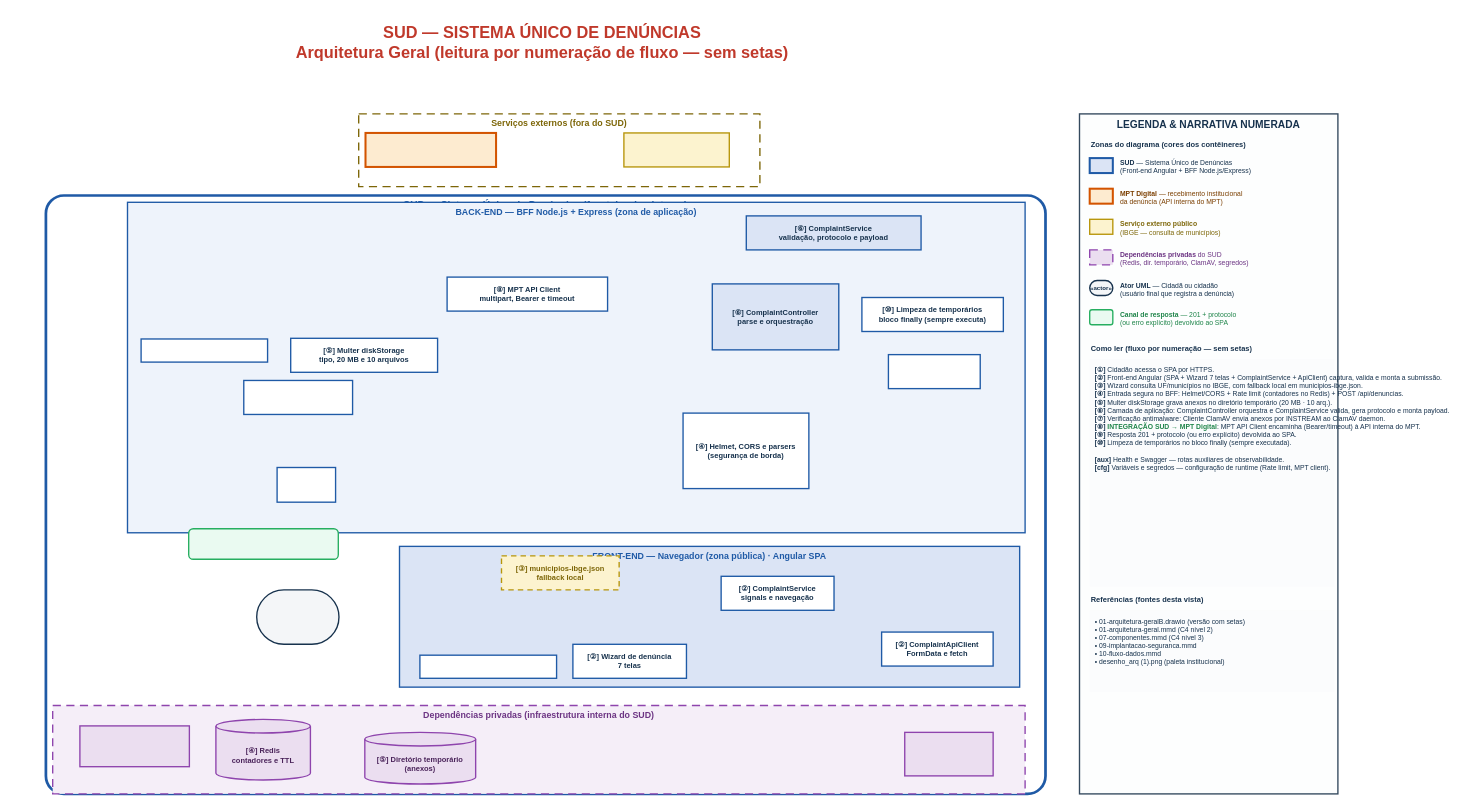
The diagram is 1461 pixels wide and 806 high, and some of its shapes have lost their labels. Here are the shapes that lost their labels. From the top down, the centre of each, then its label:
[430,150]: [⑧] API interna do MPT «MPT Digital»
[676,149]: [③] API pública do IBGE (municípios por UF)
[204,350]: [④] POST /api/denuncias
[934,371]: [⑦] Cliente ClamAV INSTREAM
[298,397]: [aux] Health e Swagger
[306,484]: [④] Rate limit
[263,544]: [⑨] Resposta 201 + protocolo (ou erro explícito)
[297,617]: «actor» [①] Cidadã ou cidadão
[488,666]: [②] Angular SPA standalone
[134,746]: [cfg] Variáveis e segredos somente no servidor
[948,753]: [⑦] ClamAV daemon
